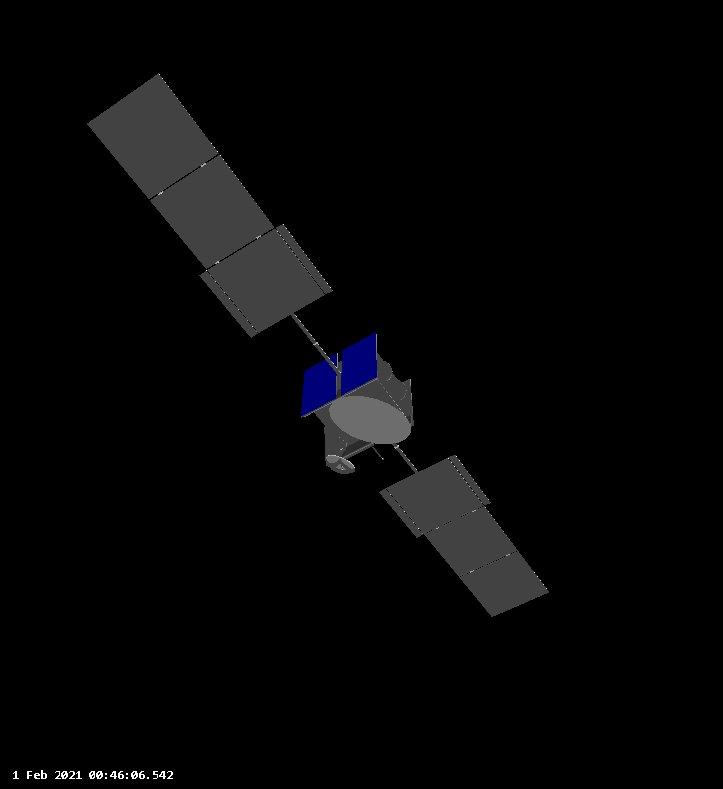antenna: (327, 393, 413, 447), (318, 450, 361, 479)
body: (303, 343, 420, 478)
solar: (79, 60, 336, 340), (376, 447, 553, 620), (295, 328, 384, 423)
